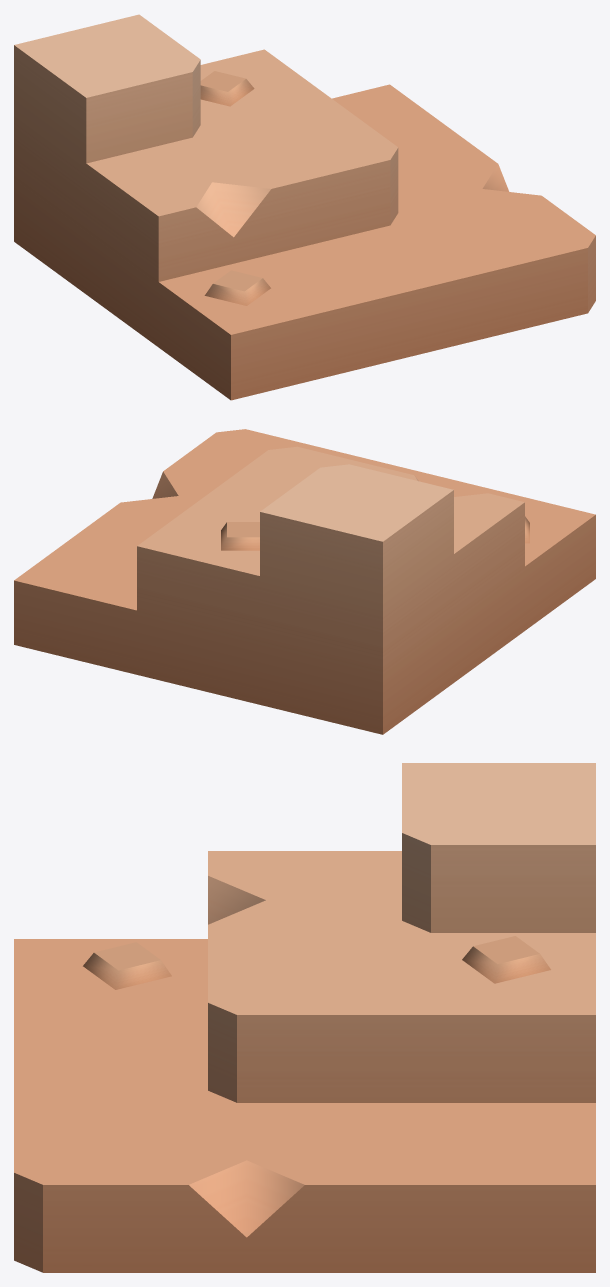
The model's file is stairs-corner.obj.
The picture shows the model from 3 angles, top to bottom: view 1: azimuth 30°, elevation 25°; view 2: azimuth 150°, elevation 25°; view 3: azimuth 270°, elevation 25°; orthographic projection. The views are drawn at different scales.
Visible parts, largest first — view 1: stairs-corner; view 2: stairs-corner; view 3: stairs-corner.
Boxes of the visible parts, bbox=[...] form: stairs-corner: bbox=[14, 14, 595, 400]; stairs-corner: bbox=[14, 429, 595, 734]; stairs-corner: bbox=[14, 763, 595, 1272].
Bounding box in the file's own units: 1 × 0.5 × 1.
Materials: 1 (1 with a texture image).
